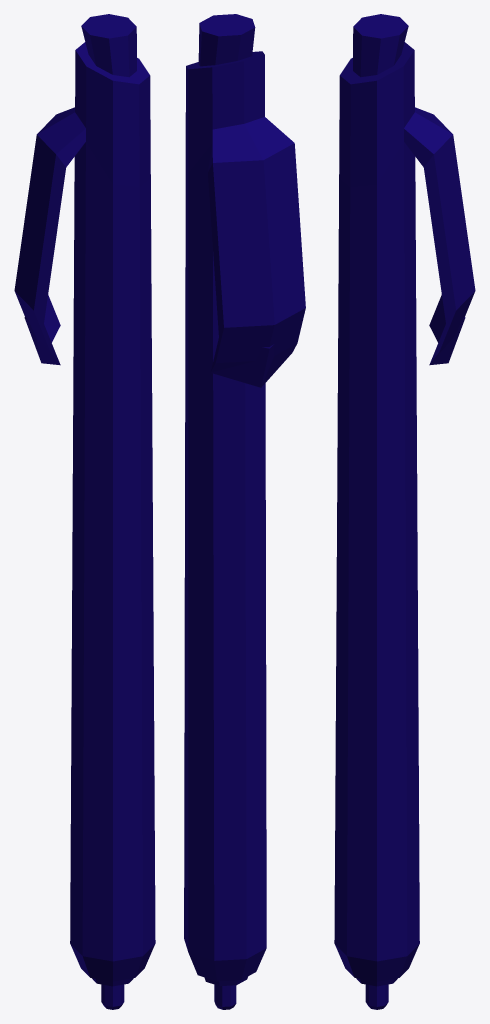
Rendered from boli.fbx.
The picture shows the model from 3 angles, left to right: view 1: azimuth 90°, elevation 25°; view 2: azimuth 210°, elevation 25°; view 3: azimuth 270°, elevation 25°; orthographic projection.
Visible parts, largest first — view 1: Cylinder.001; view 2: Cylinder.001; view 3: Cylinder.001.
Part boxes in pixels (x1,y1,x2,y2): Cylinder.001: (14, 14, 155, 1009); Cylinder.001: (184, 14, 305, 1009); Cylinder.001: (334, 14, 475, 1009).
Bounding box in the file's own units: 444 × 5097 × 665.
